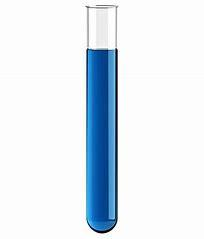Test tube: (73, 6, 120, 236)
